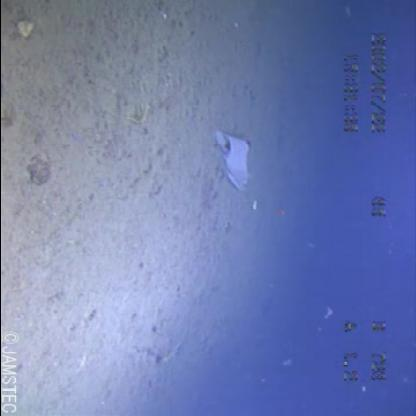Rác: (195, 116, 261, 218)
